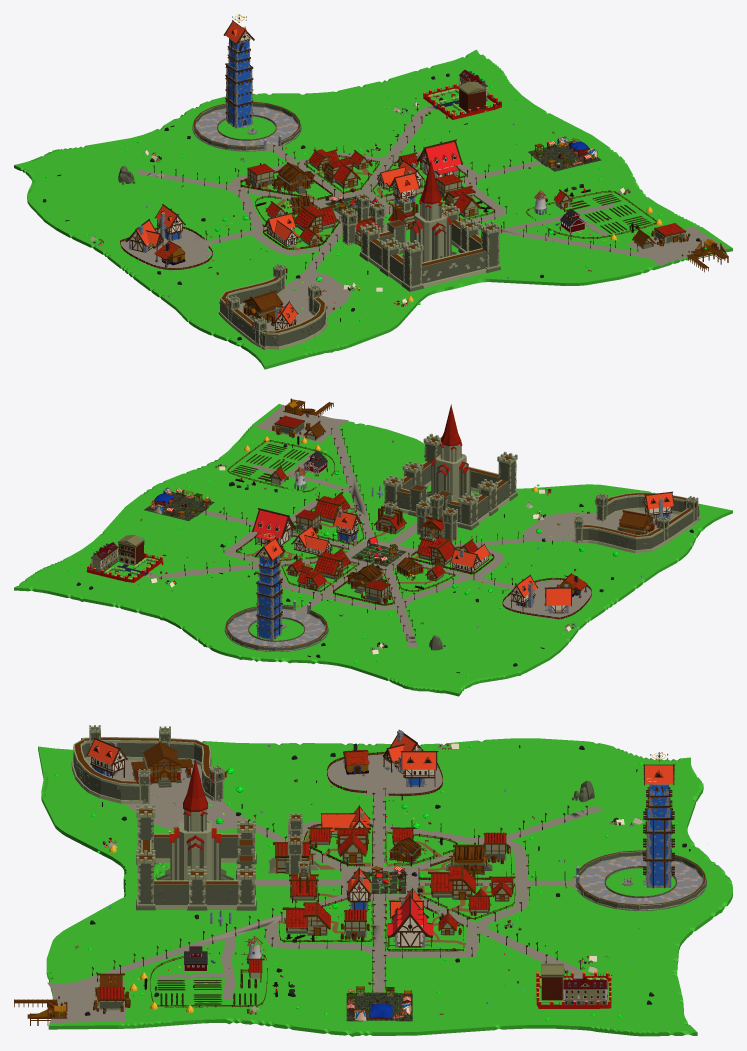
The model's file is island_world_complete.glb.
The picture shows the model from 3 angles, top to bottom: view 1: azimuth 30°, elevation 25°; view 2: azimuth 150°, elevation 25°; view 3: azimuth 270°, elevation 25°; orthographic projection. The views are drawn at different scales.
Parts seen in each view (by area): view 1: Cube.003, path, WonderWalls_SecondAge, Wall_SecondAge.002, House_3.001, Temple_SecondAge_Level2, Grid, Path_Straight.001, Plane.001, Barracks_SecondAge_Level3, Plane, Inn (+17 smaller); view 2: Cube.003, path, WonderWalls_SecondAge, Wall_SecondAge.002, House_3.001, Temple_SecondAge_Level2, Grid, Path_Straight.001, Barracks_SecondAge_Level3, Plane.001, Inn, Plane (+21 smaller); view 3: Cube.003, path, WonderWalls_SecondAge, Wall_SecondAge.002, Temple_SecondAge_Level2, House_3.001, Grid, Path_Straight.001, Plane.001, Plane, Wall_SecondAge, Inn (+25 smaller).
Part boxes in pixels (<box>): Cube.003: <box>14,50,732,369</box>; path: <box>136,106,648,271</box>; WonderWalls_SecondAge: <box>359,203,501,291</box>; Wall_SecondAge.002: <box>218,276,327,349</box>; House_3.001: <box>223,20,254,128</box>; Temple_SecondAge_Level2: <box>402,160,456,262</box>; Grid: <box>239,271,351,330</box>; Path_Straight.001: <box>192,107,301,151</box>; Plane.001: <box>120,228,212,270</box>; Barracks_SecondAge_Level3: <box>341,193,385,246</box>; Plane: <box>626,226,727,266</box>; Inn: <box>416,139,463,177</box>; Cube.003: <box>14,404,732,696</box>; path: <box>144,428,528,647</box>; WonderWalls_SecondAge: <box>383,433,517,530</box>; Wall_SecondAge.002: <box>578,492,700,553</box>; House_3.001: <box>254,537,284,640</box>; Temple_SecondAge_Level2: <box>427,404,478,503</box>; Grid: <box>523,510,677,543</box>; Path_Straight.001: <box>224,609,328,651</box>; Barracks_SecondAge_Level3: <box>416,493,457,542</box>; Plane.001: <box>502,579,592,619</box>; Inn: <box>251,508,295,546</box>; Plane: <box>255,405,348,442</box>; Cube.003: <box>38,738,732,1036</box>; path: <box>75,798,602,999</box>; WonderWalls_SecondAge: <box>136,804,256,910</box>; Wall_SecondAge.002: <box>71,737,219,804</box>; Temple_SecondAge_Level2: <box>157,759,233,880</box>; House_3.001: <box>643,764,675,888</box>; Grid: <box>87,760,249,830</box>; Path_Straight.001: <box>571,856,706,910</box>; Plane.001: <box>326,754,442,796</box>; Plane: <box>47,981,126,1023</box>; Wall_SecondAge: <box>577,850,705,910</box>; Inn: <box>386,894,433,947</box>.
Bounding box in the file's own units: 271 × 59.08 × 280.
6 materials, 6 textured.
